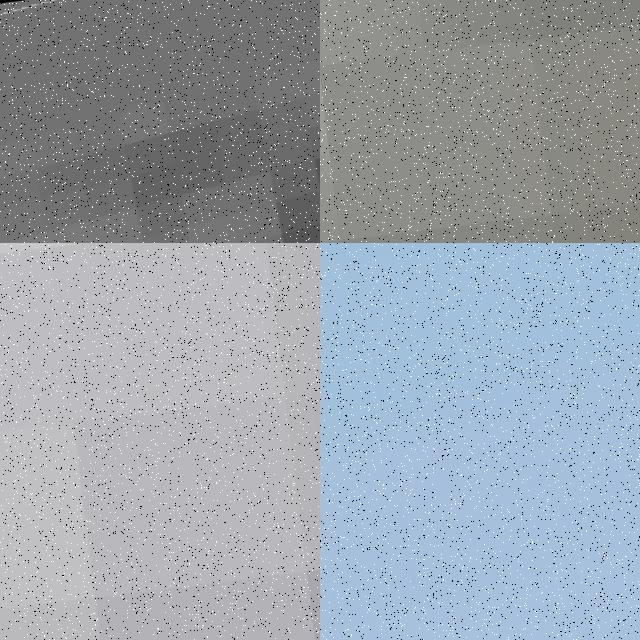drone: (320, 243, 640, 640), (0, 0, 320, 243)
